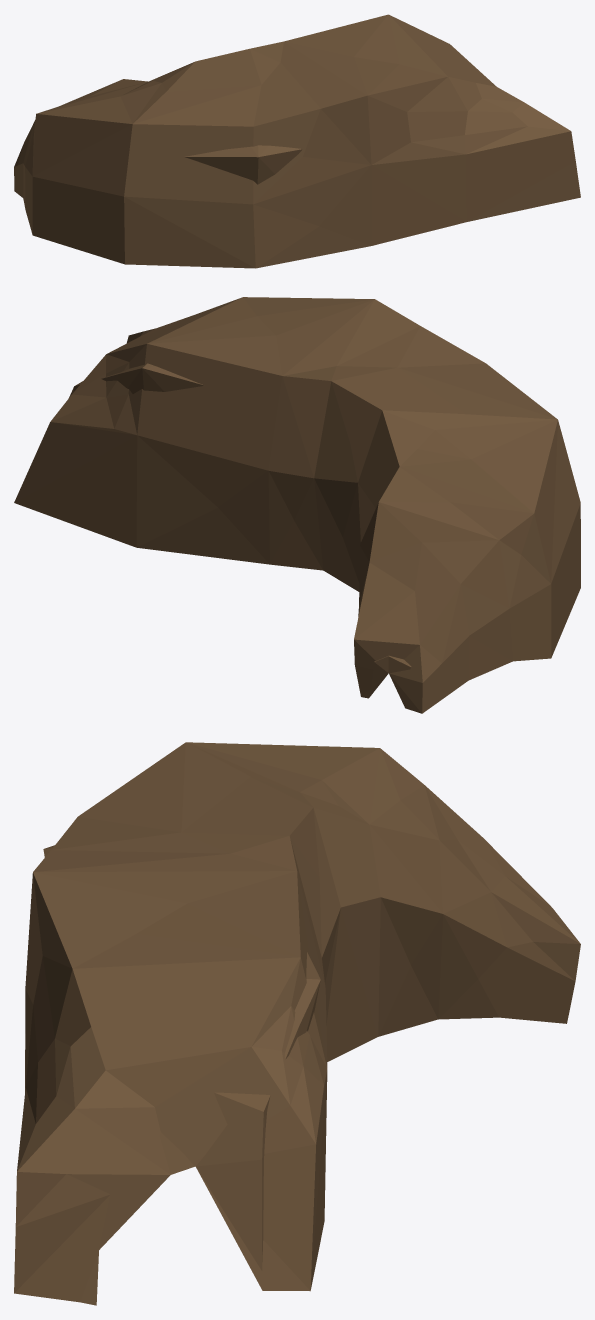
File: caveR.fbx
The picture shows the model from 3 angles, top to bottom: view 1: azimuth 30°, elevation 25°; view 2: azimuth 150°, elevation 25°; view 3: azimuth 270°, elevation 25°; orthographic projection. The views are drawn at different scales.
Parts seen in each view (by area): view 1: Right; view 2: Right; view 3: Right.
Boxes of the visible parts, bbox=[...] form: Right: bbox=[14, 14, 580, 268]; Right: bbox=[14, 297, 580, 713]; Right: bbox=[14, 742, 580, 1305].
Bounding box in the file's own units: 609 × 216 × 399.
